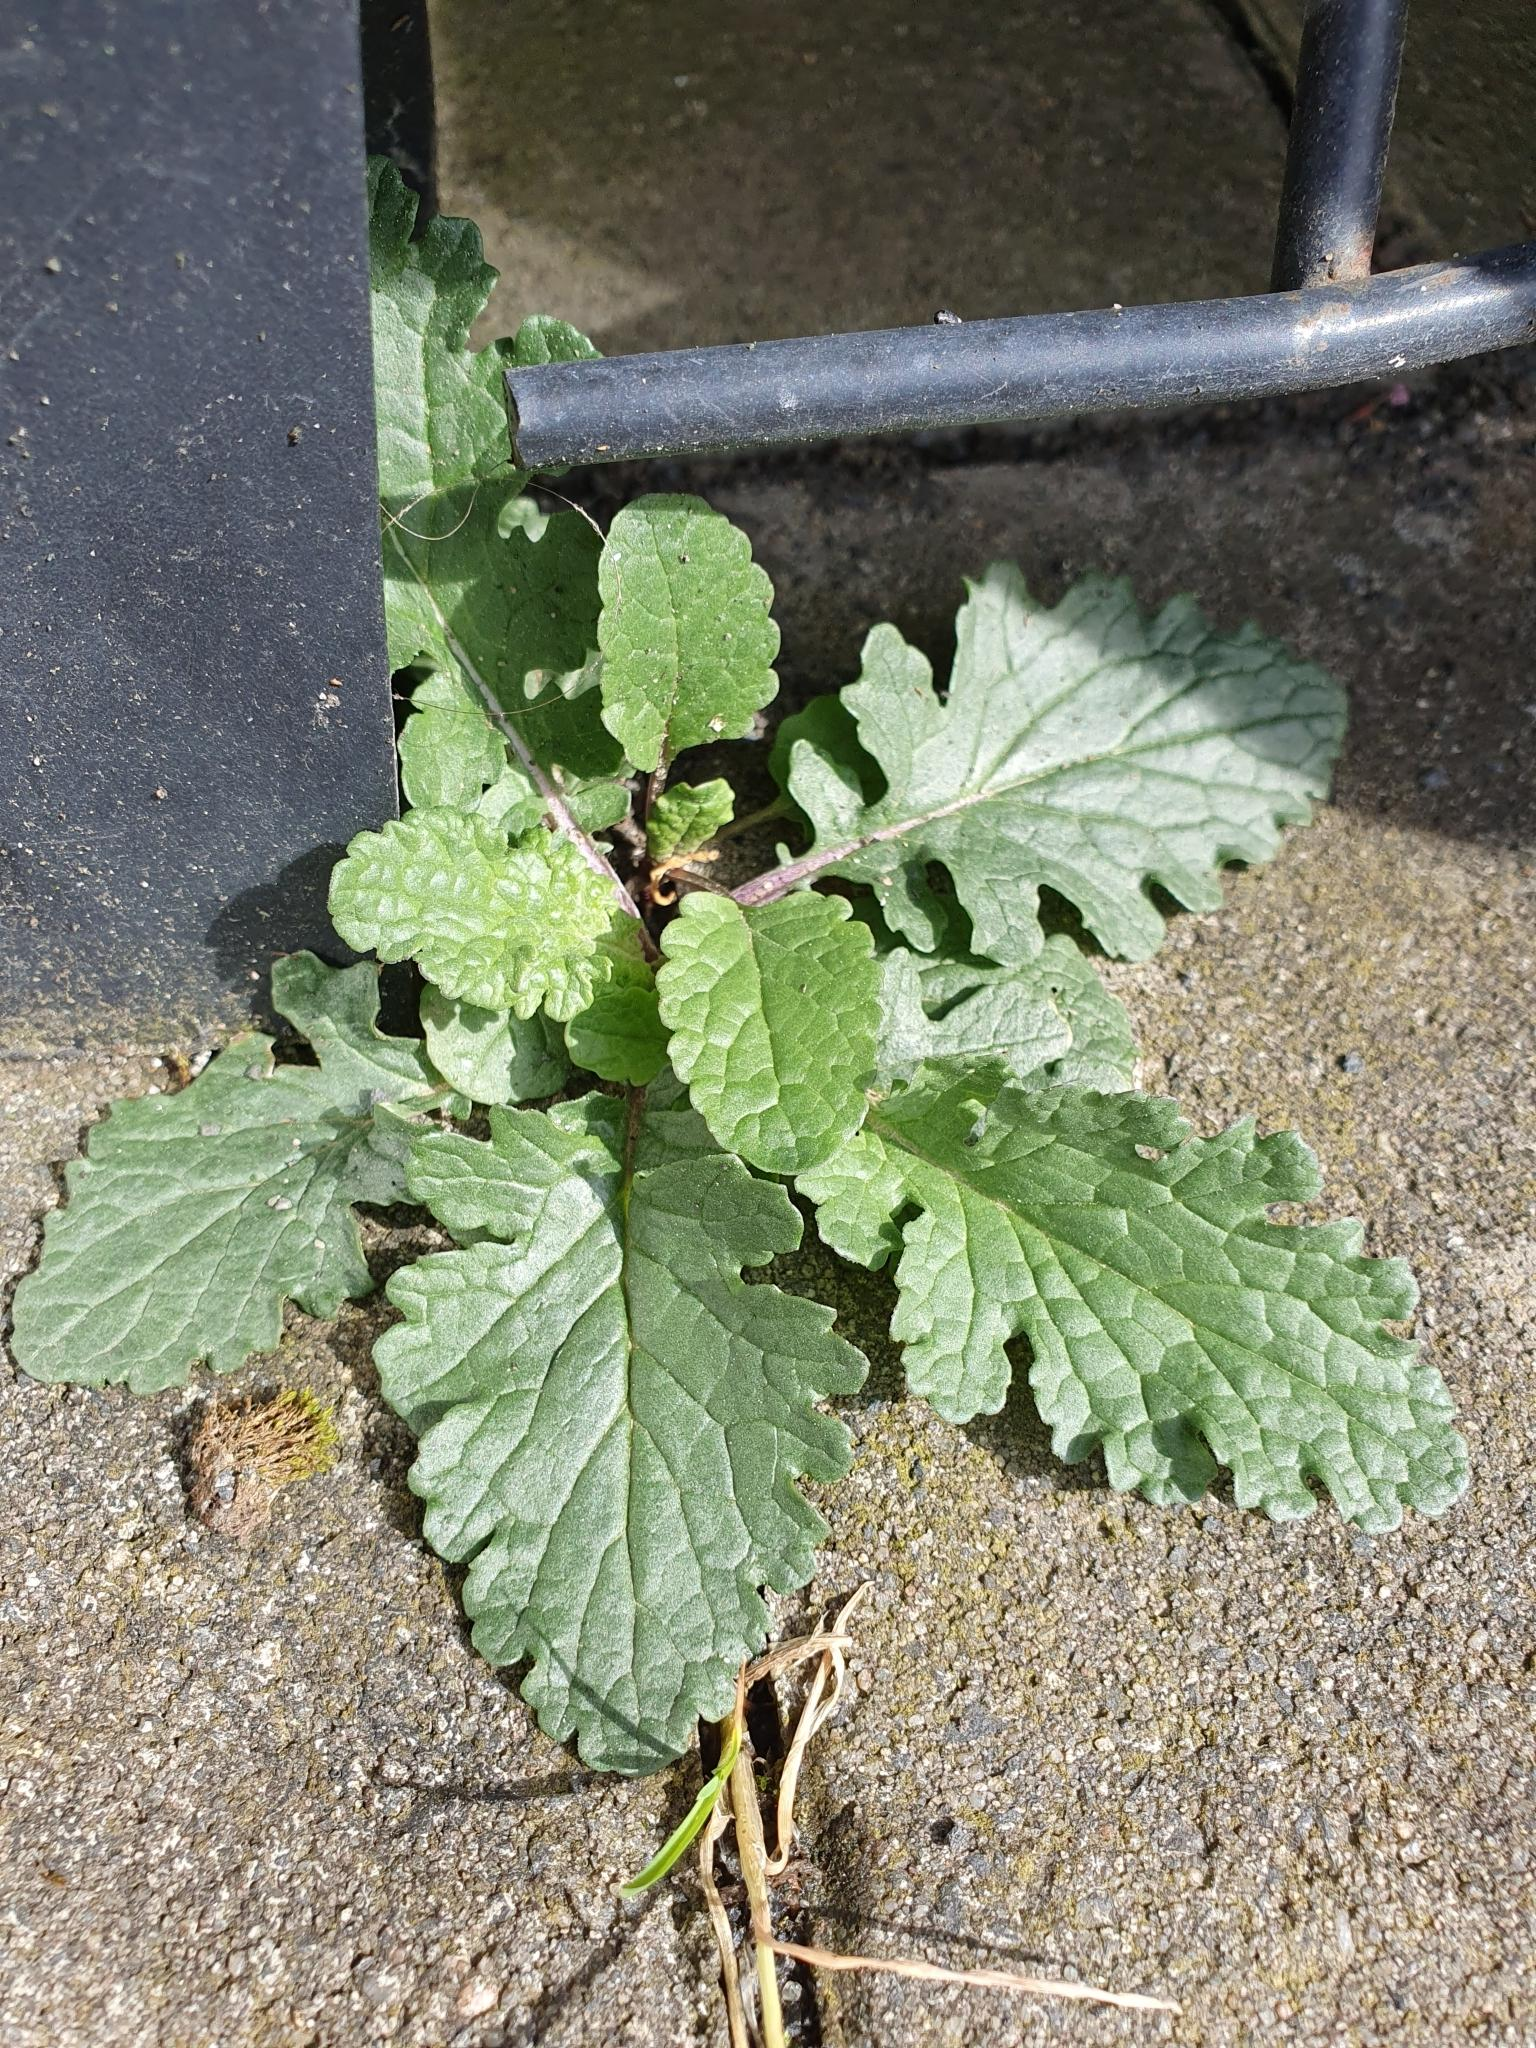Jacobaea vulgaris: (6, 131, 1483, 1767)
